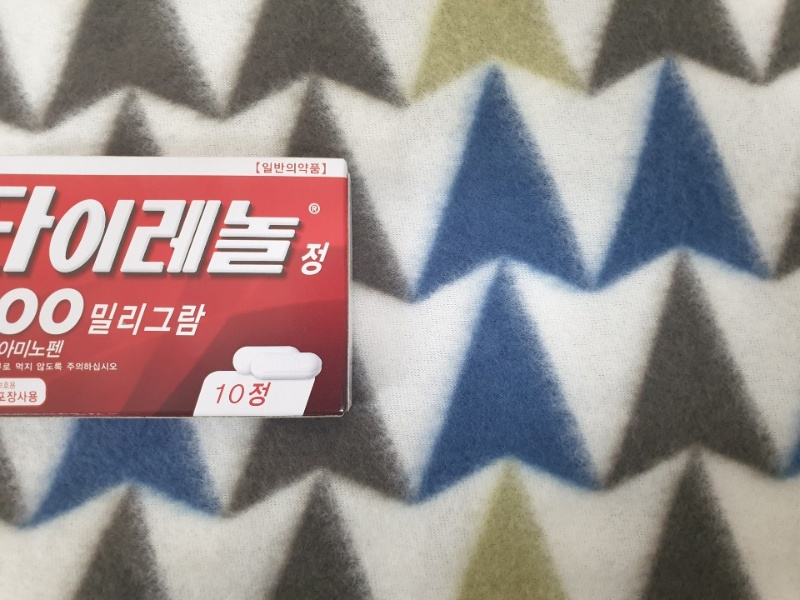tylenol: (1, 158, 352, 414)
